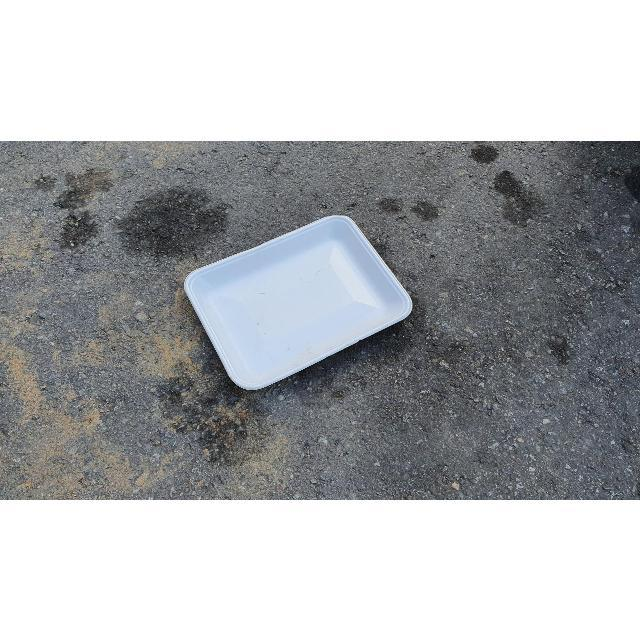Recipiente plastico: (186, 218, 411, 389)
